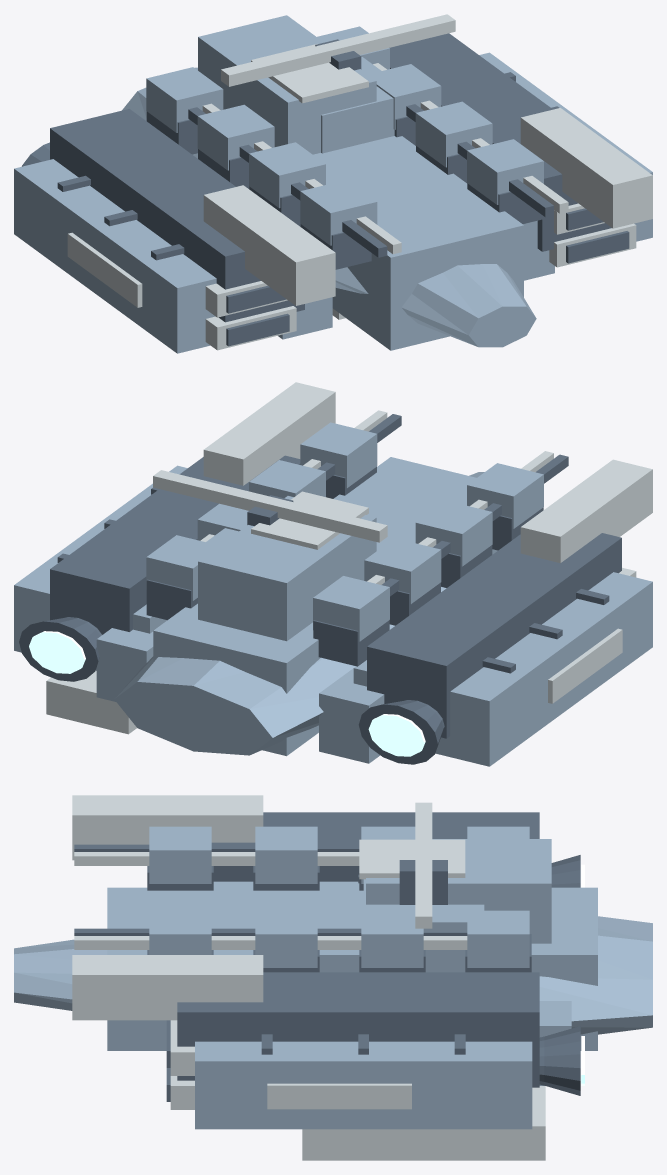
The picture shows the model from 3 angles, top to bottom: view 1: azimuth 30°, elevation 25°; view 2: azimuth 150°, elevation 25°; view 3: azimuth 270°, elevation 25°; orthographic projection. The views are drawn at different scales.
Bounding box in the file's own units: 17.45 × 7.25 × 19.28.
